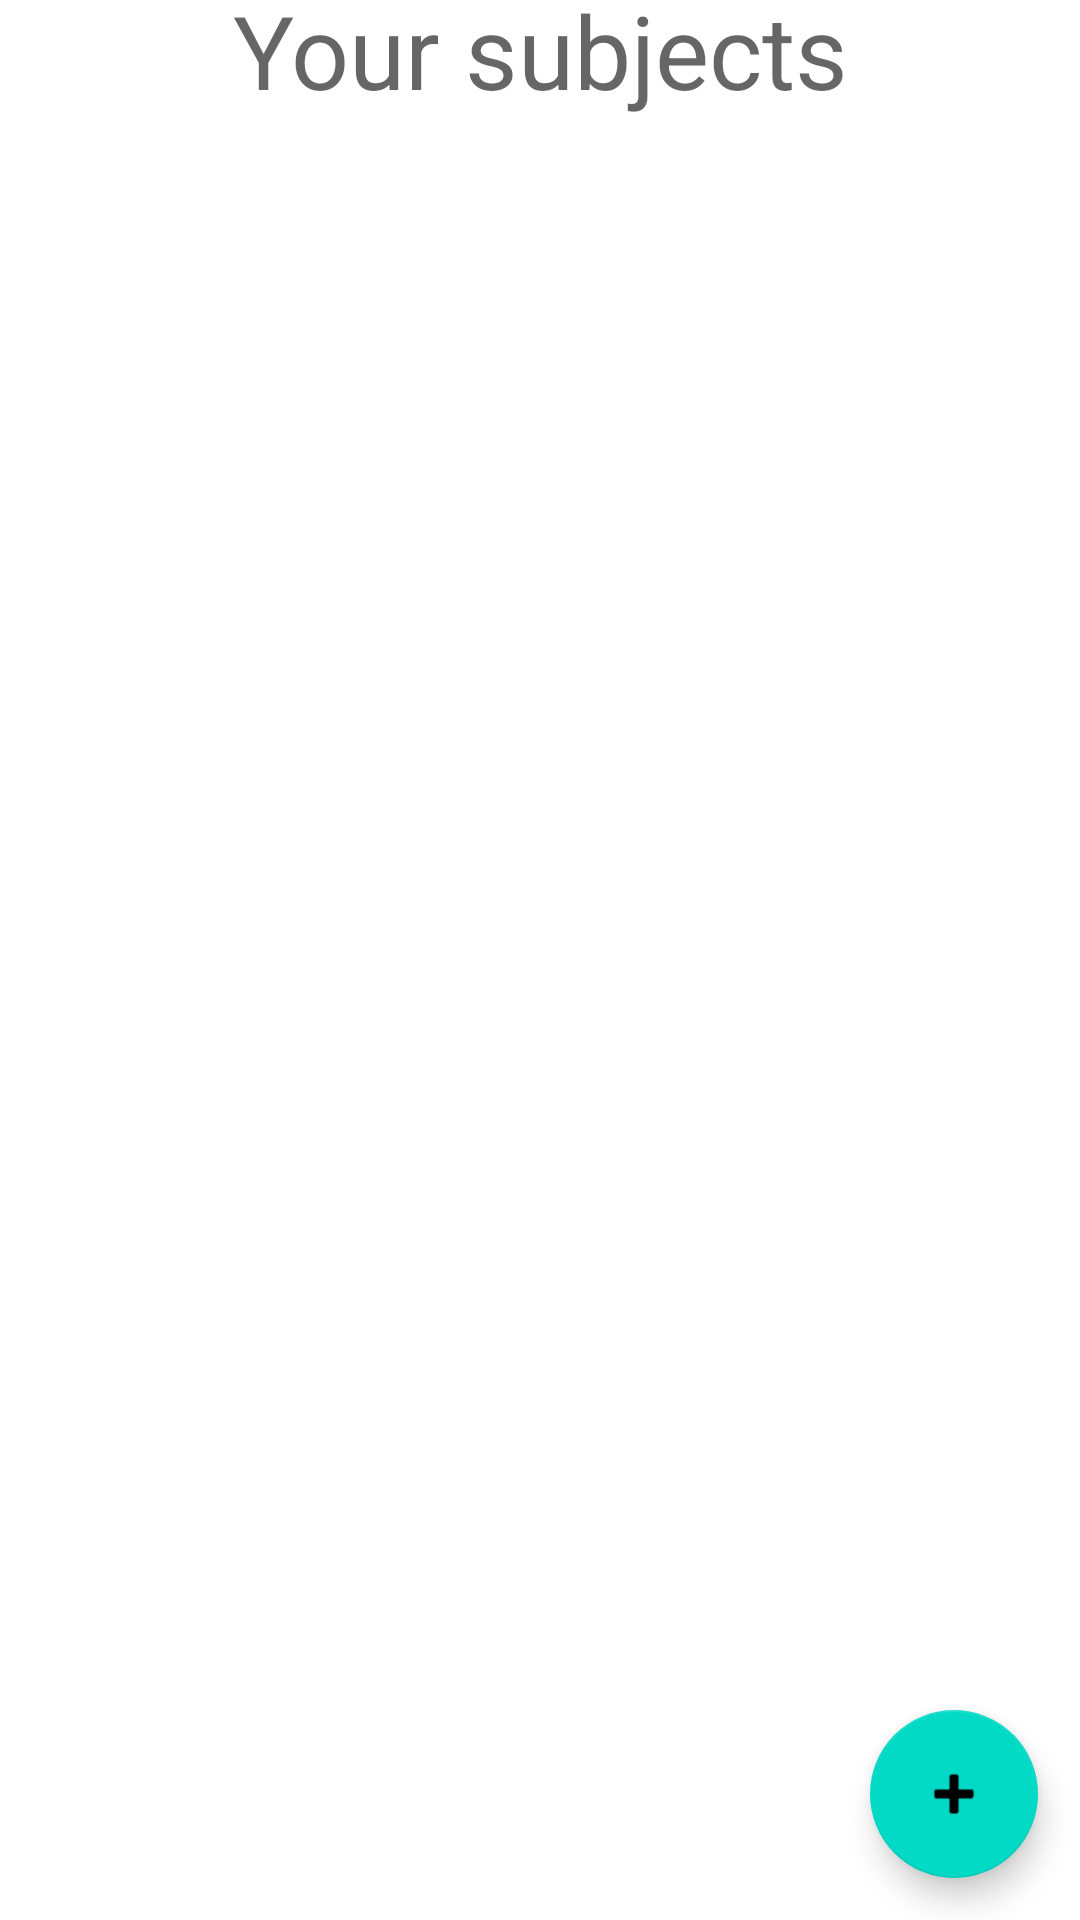

Screen size 1080*1920. Icon name, then its box in pixels as (x1, y1, x2, y2):
add: (870, 1710, 1038, 1878)
